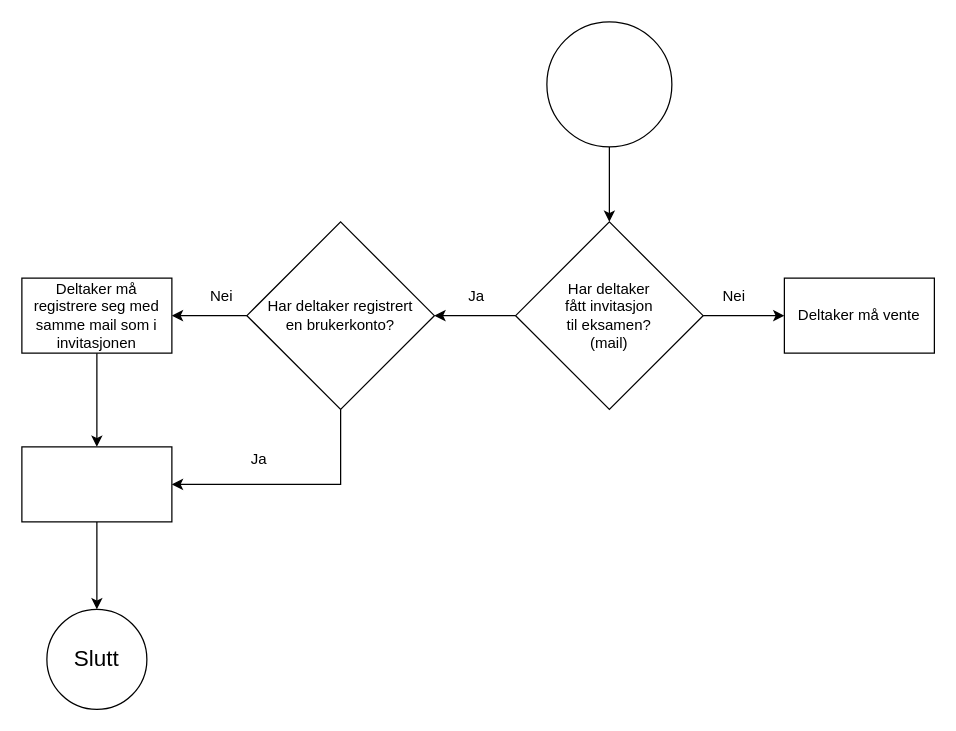
Some shapes in this 956 by 731 pixel diagram are drawn without their labels. The centre of each missing label's shape, as x and y in pixels:
Deltaker kan logge inn: point (96, 484)
Start: point (609, 84)
